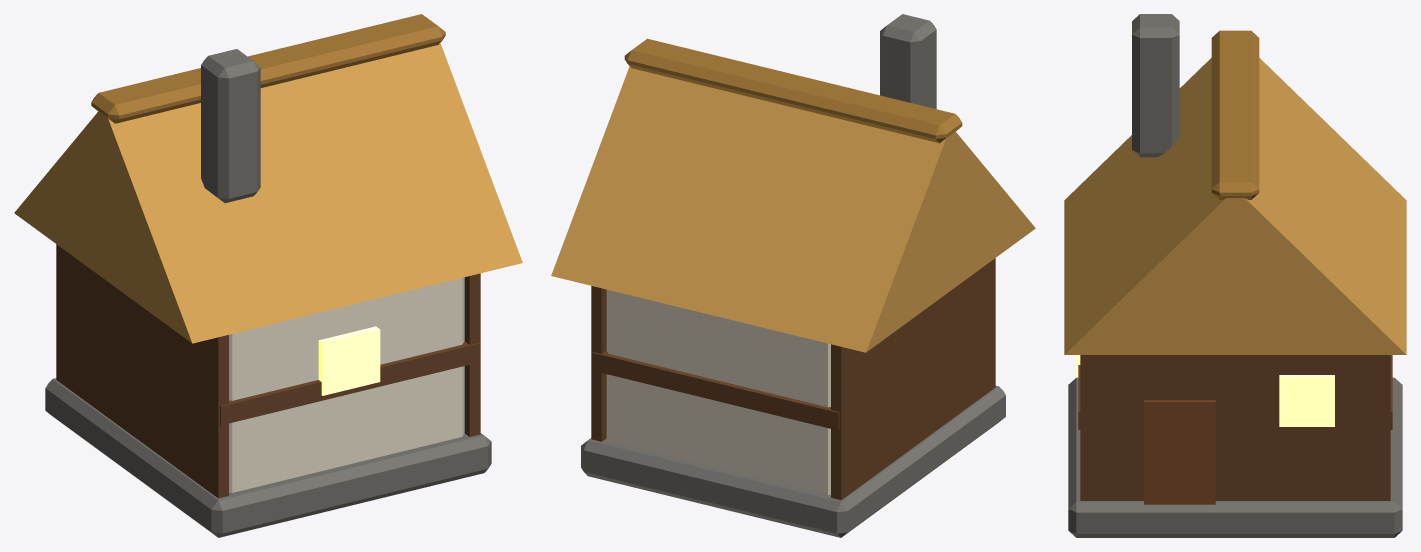
Rendered from house.glb.
3 views of the same model, side by side, from view 1: azimuth 30°, elevation 25°; view 2: azimuth 150°, elevation 25°; view 3: azimuth 270°, elevation 25° (orthographic). The views are drawn at different scales.
Visible parts, largest first — view 1: house; view 2: house; view 3: house.
Part boxes in pixels (x1,y1,x2,y2): house: (14, 14, 522, 537); house: (551, 14, 1035, 537); house: (1064, 14, 1406, 537).
Size of the model in its own units: 0.94 by 1.16 by 0.86.
